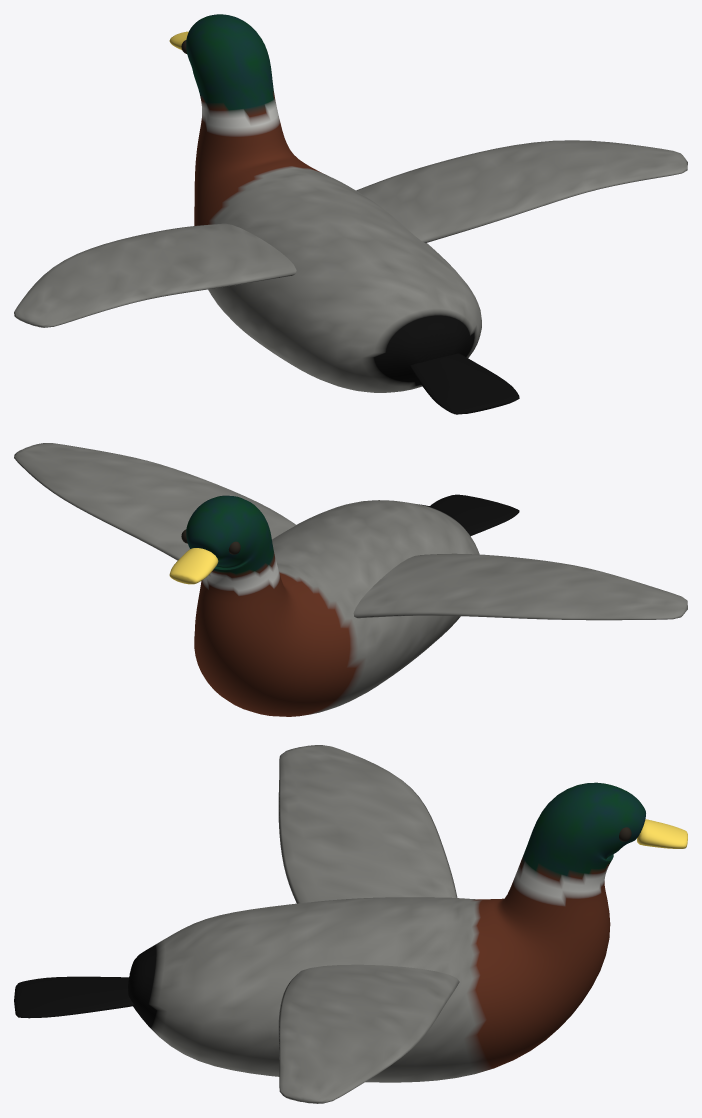
The model's file is duck_flying.gltf.
3 renders of one model, top to bottom at view 1: azimuth 30°, elevation 25°; view 2: azimuth 150°, elevation 25°; view 3: azimuth 270°, elevation 25°, orthographic. The views are drawn at different scales.
Parts seen in each view (by area): view 1: duck; view 2: duck; view 3: duck.
Boxes of the visible parts, bbox=[...] form: duck: bbox=[14, 14, 687, 414]; duck: bbox=[14, 443, 687, 716]; duck: bbox=[14, 745, 687, 1103].
Size of the model in its own units: 0.9053 by 0.3353 by 0.7237.
